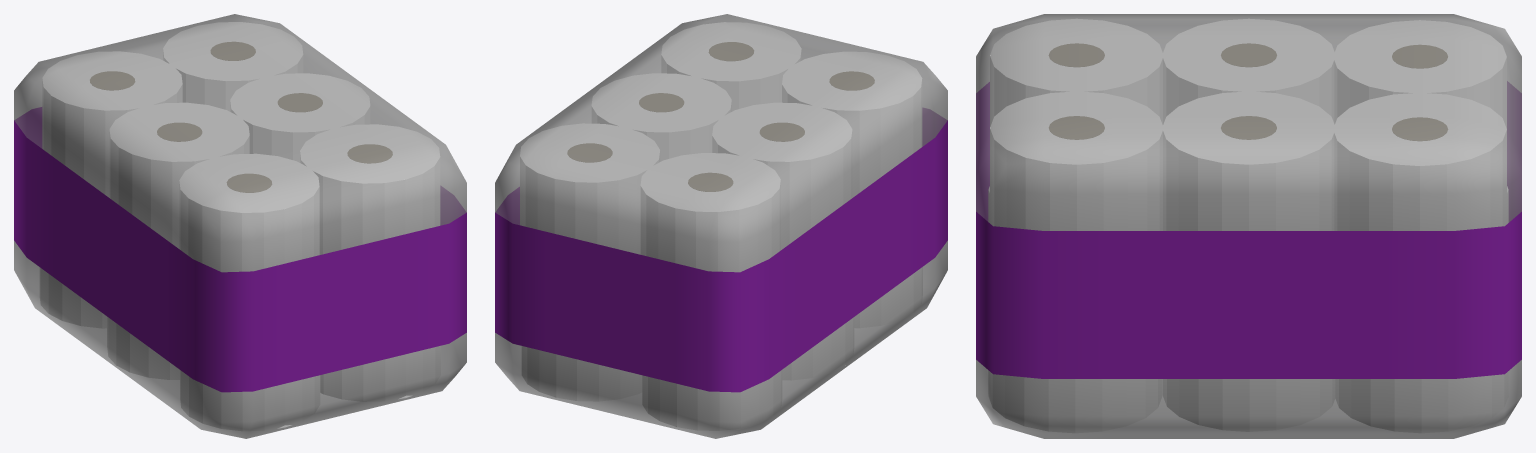
The model's file is tp-pack.fbx.
The picture shows the model from 3 angles, left to right: view 1: azimuth 30°, elevation 25°; view 2: azimuth 150°, elevation 25°; view 3: azimuth 270°, elevation 25°; orthographic projection. The views are drawn at different scales.
Parts seen in each view (by area): view 1: pCube35, pCylinder18, pCylinder12, pCylinder16, pCylinder17, pCylinder11, pCylinder10, pCylinder15, pCylinder9, pCylinder14, pCylinder13; view 2: pCube35, pCylinder16, pCylinder10, pCylinder17, pCylinder18, pCylinder12, pCylinder11, pCylinder13, pCylinder7, pCylinder14, pCylinder15; view 3: pCube35, pCylinder12, pCylinder11, pCylinder10, pCylinder16, pCylinder18, pCylinder17, pCylinder9, pCylinder7, pCylinder8.
Part boxes in pixels (<box>): pCube35: <box>14,14,466,438</box>; pCylinder18: <box>179,154,319,271</box>; pCylinder12: <box>300,124,439,254</box>; pCylinder16: <box>42,51,182,197</box>; pCylinder17: <box>110,103,249,248</box>; pCylinder11: <box>230,73,369,162</box>; pCylinder10: <box>163,22,302,111</box>; pCylinder15: <box>180,370,319,430</box>; pCylinder9: <box>320,346,440,401</box>; pCylinder14: <box>107,317,179,379</box>; pCylinder13: <box>40,268,106,328</box>; pCube35: <box>495,14,947,438</box>; pCylinder16: <box>641,153,780,271</box>; pCylinder10: <box>520,123,659,254</box>; pCylinder17: <box>712,103,851,249</box>; pCylinder18: <box>782,52,921,197</box>; pCylinder12: <box>661,22,801,111</box>; pCylinder11: <box>592,73,731,161</box>; pCylinder13: <box>642,370,781,430</box>; pCylinder7: <box>522,346,641,401</box>; pCylinder14: <box>782,317,853,380</box>; pCylinder15: <box>854,267,922,327</box>; pCube35: <box>976,14,1521,438</box>; pCylinder12: <box>990,91,1162,230</box>; pCylinder11: <box>1162,91,1335,230</box>; pCylinder10: <box>1333,93,1506,230</box>; pCylinder16: <box>1333,20,1506,128</box>; pCylinder18: <box>990,19,1163,126</box>; pCylinder17: <box>1163,19,1334,124</box>; pCylinder9: <box>988,371,1161,432</box>; pCylinder7: <box>1335,371,1508,432</box>; pCylinder8: <box>1163,379,1334,431</box>.
Size of the model in its own units: 0.6601 by 0.5796 by 0.9686.
